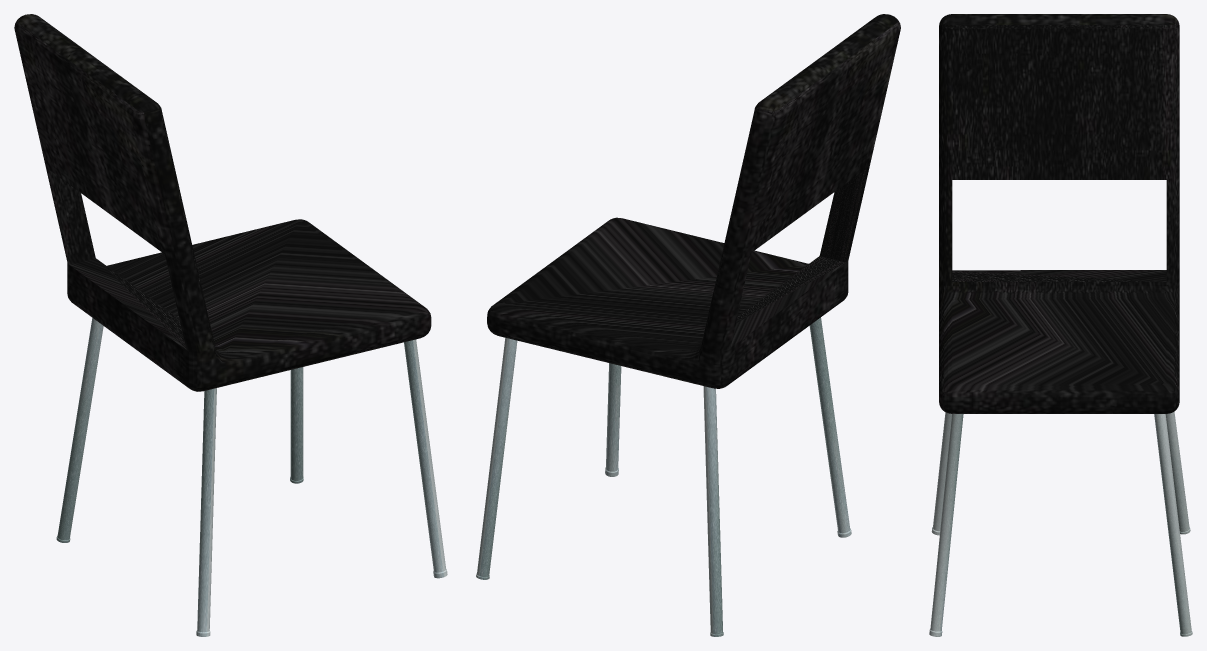
File: Office Chair.fbx
3 views of the same model, side by side, from view 1: azimuth 30°, elevation 25°; view 2: azimuth 150°, elevation 25°; view 3: azimuth 270°, elevation 25° (orthographic). The views are drawn at different scales.
Parts seen in each view (by area): view 1: Cube, LekcShair 2; view 2: Cube, LekcShair 2; view 3: Cube, LekcShair 2.
Boxes of the visible parts, x1,y1,x2,y2 form: Cube: [14, 14, 431, 391]; LekcShair 2: [56, 318, 447, 636]; Cube: [487, 14, 900, 388]; LekcShair 2: [476, 317, 851, 636]; Cube: [939, 14, 1179, 413]; LekcShair 2: [929, 411, 1192, 636].
Bounding box in the file's own units: 56.15 × 95.67 × 45.93.
Materials: 5 (5 with a texture image).
